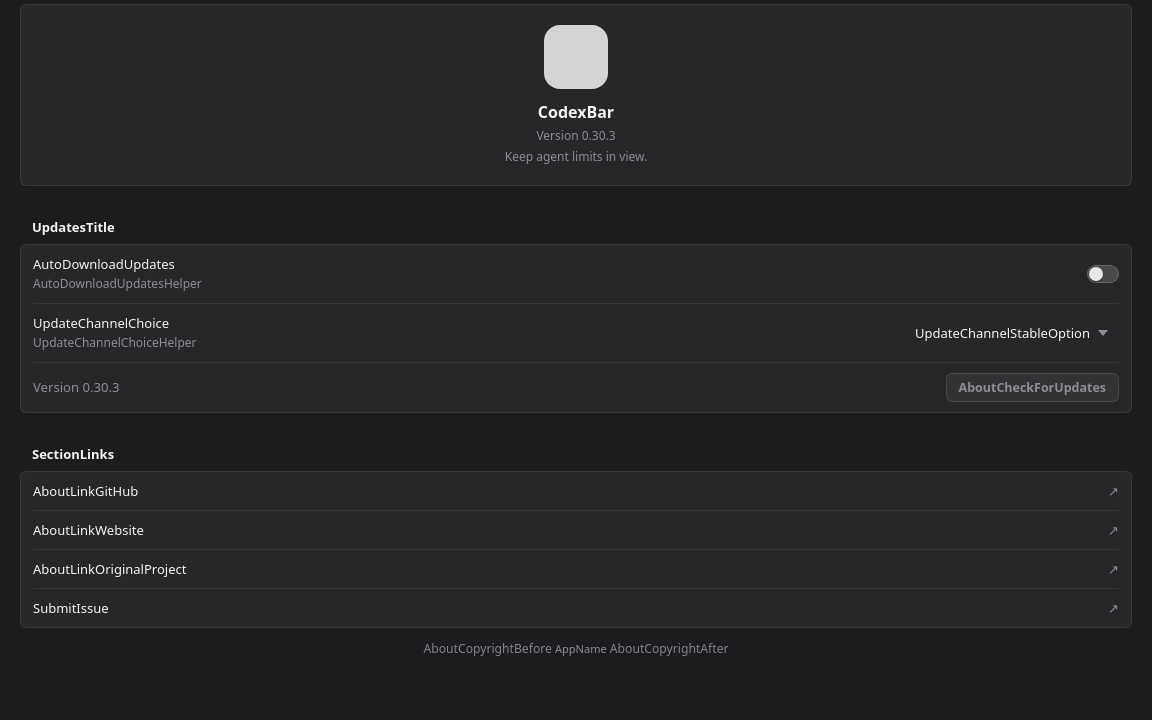
Scenario: AboutTab › shows a link error if the OS browser launch fails
Click the button "AboutLinkWebsite ↗": (88, 530) [33,510,1119,549]
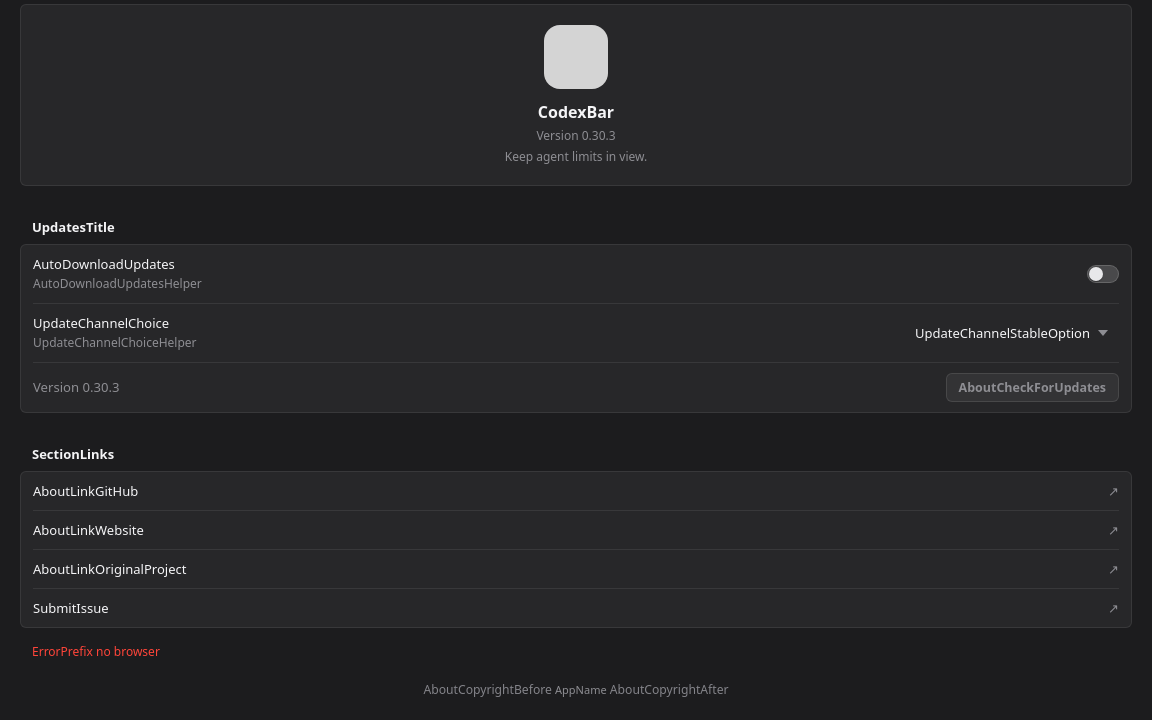
expect the text "ErrorPrefix no browser" is shown: met, box [32,643,160,660]
